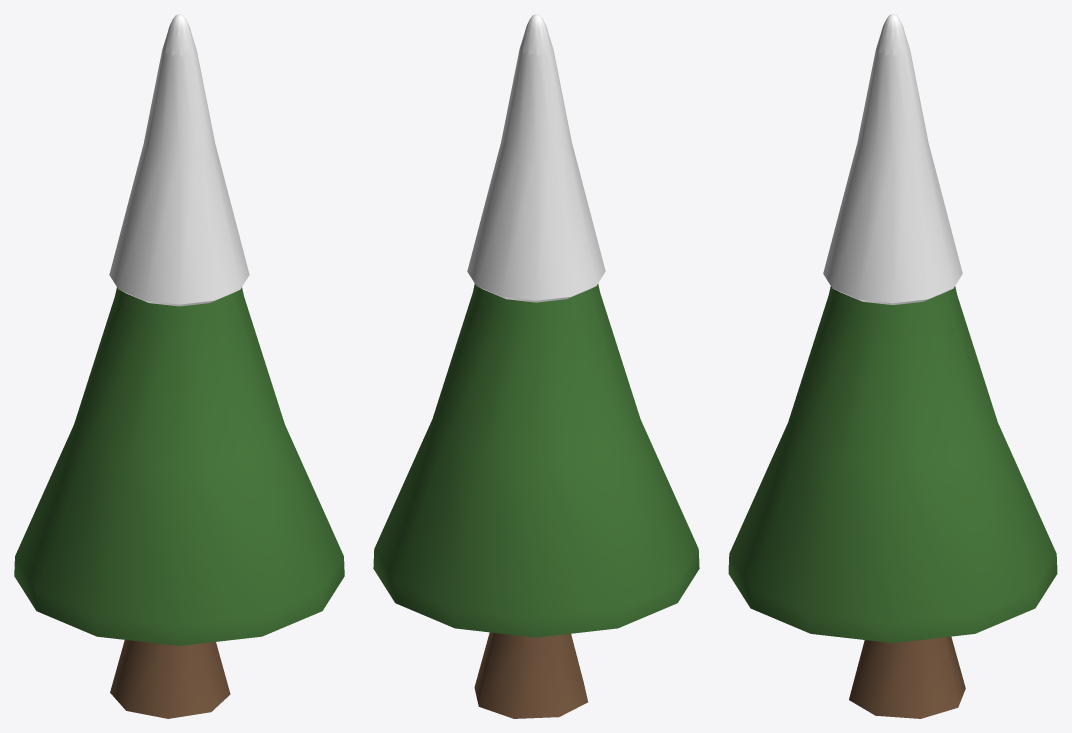
File: SM_tree_snow_02.fbx
3 views of the same model, side by side, from view 1: azimuth 30°, elevation 25°; view 2: azimuth 150°, elevation 25°; view 3: azimuth 270°, elevation 25° (orthographic).
Parts seen in each view (by area): view 1: Cylinder51274; view 2: Cylinder51274; view 3: Cylinder51274.
Boxes of the visible parts, x1,y1,x2,y2 form: Cylinder51274: (14, 14, 344, 718); Cylinder51274: (373, 14, 699, 718); Cylinder51274: (728, 14, 1057, 718).
Bounding box in the file's own units: 63.92 × 146 × 63.92.
